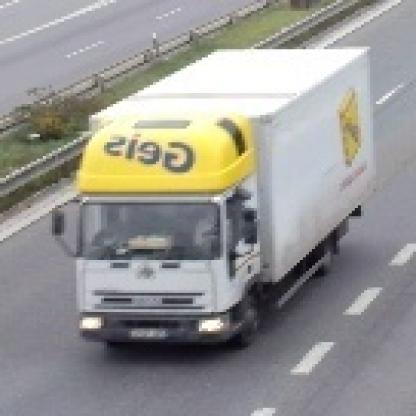truck: (53, 42, 371, 357)
